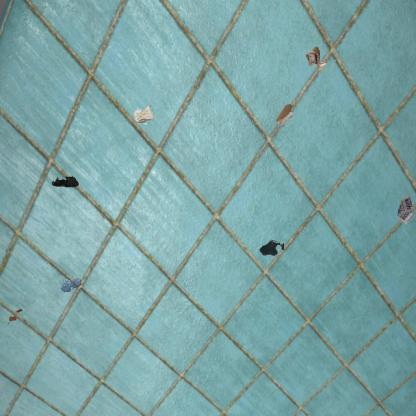dirty: (304, 44, 330, 72), (396, 194, 416, 225), (274, 101, 296, 128), (50, 174, 80, 189), (132, 104, 152, 125), (7, 307, 24, 328)
liquid: (59, 276, 83, 294), (259, 239, 284, 256)
